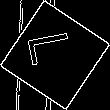L_E: (27, 35, 83, 75)
